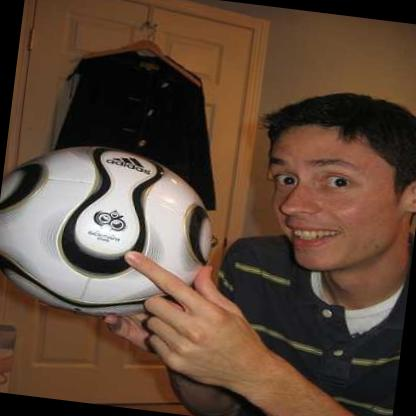ball: (0, 134, 221, 328)
